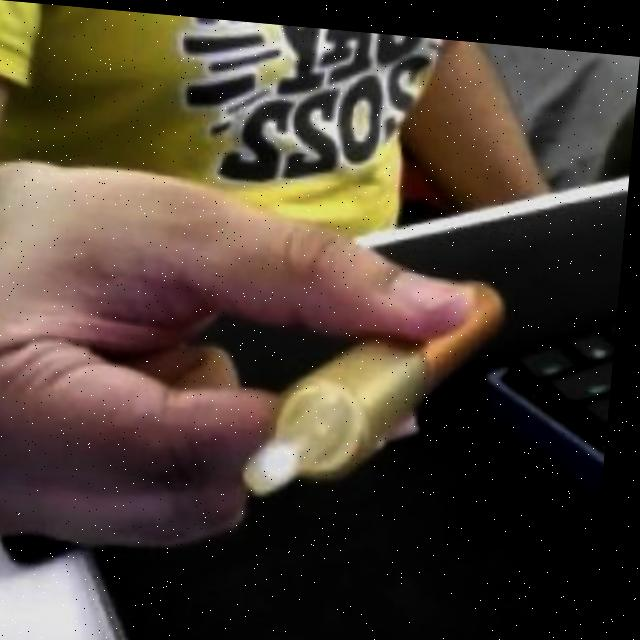vape: (251, 259, 511, 505)
